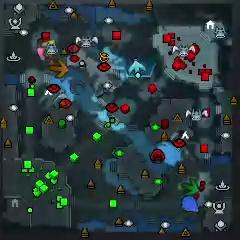p1: (181, 196, 199, 213)
x1: (38, 46, 48, 63)
x2: (41, 39, 55, 57)
x3: (127, 59, 147, 77)
x4: (182, 178, 199, 197)
x5: (49, 59, 68, 78)
